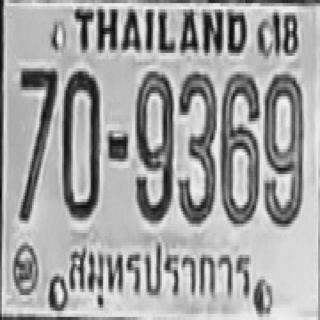N00: (61, 68, 99, 218)
N03: (177, 70, 216, 222)
N06: (220, 71, 258, 224)
N07: (19, 65, 56, 221)
N09: (263, 71, 302, 224), (135, 68, 172, 221)
P57: (61, 237, 254, 308)
